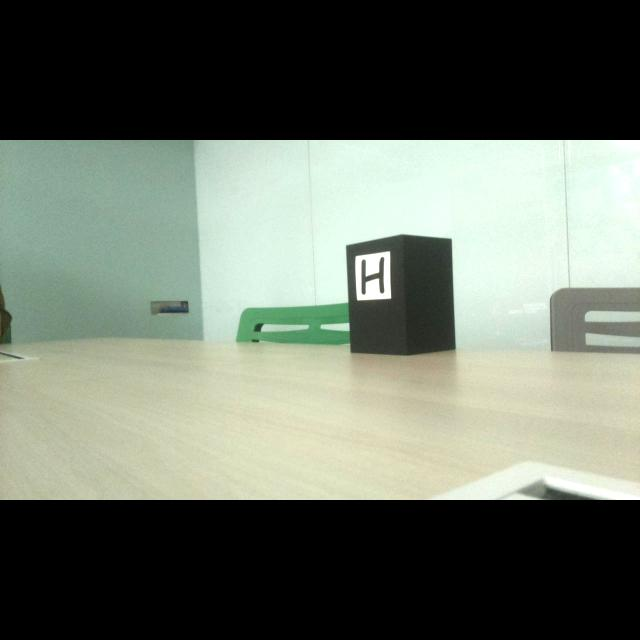H: (361, 257, 385, 295)
